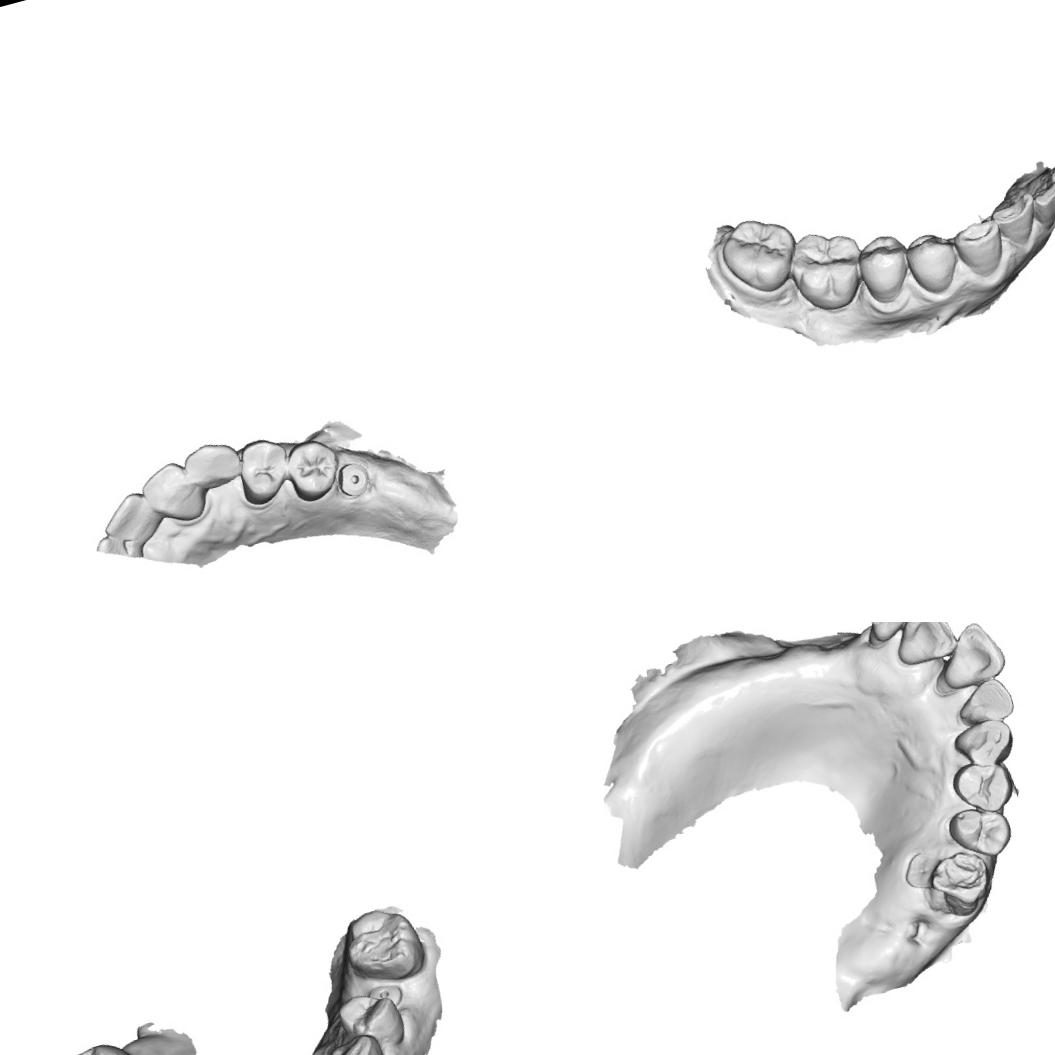canine: (176, 434, 247, 496), (948, 214, 1011, 283), (948, 713, 1018, 774), (320, 1029, 394, 1055)
implant: (333, 457, 374, 500), (365, 979, 405, 1011)
incisor: (929, 622, 1010, 692), (134, 456, 208, 532), (92, 486, 161, 548), (950, 673, 1018, 731), (986, 190, 1043, 252), (886, 622, 961, 669), (94, 526, 146, 572), (1026, 178, 1055, 234), (861, 622, 921, 646), (1029, 151, 1055, 194)
molar: (780, 220, 872, 318), (712, 208, 807, 302), (335, 898, 430, 991)
premolar: (332, 984, 409, 1055), (850, 228, 918, 308), (228, 432, 297, 509), (944, 797, 1018, 866), (947, 752, 1020, 820), (900, 225, 966, 300), (281, 433, 346, 506), (62, 1036, 135, 1055)
